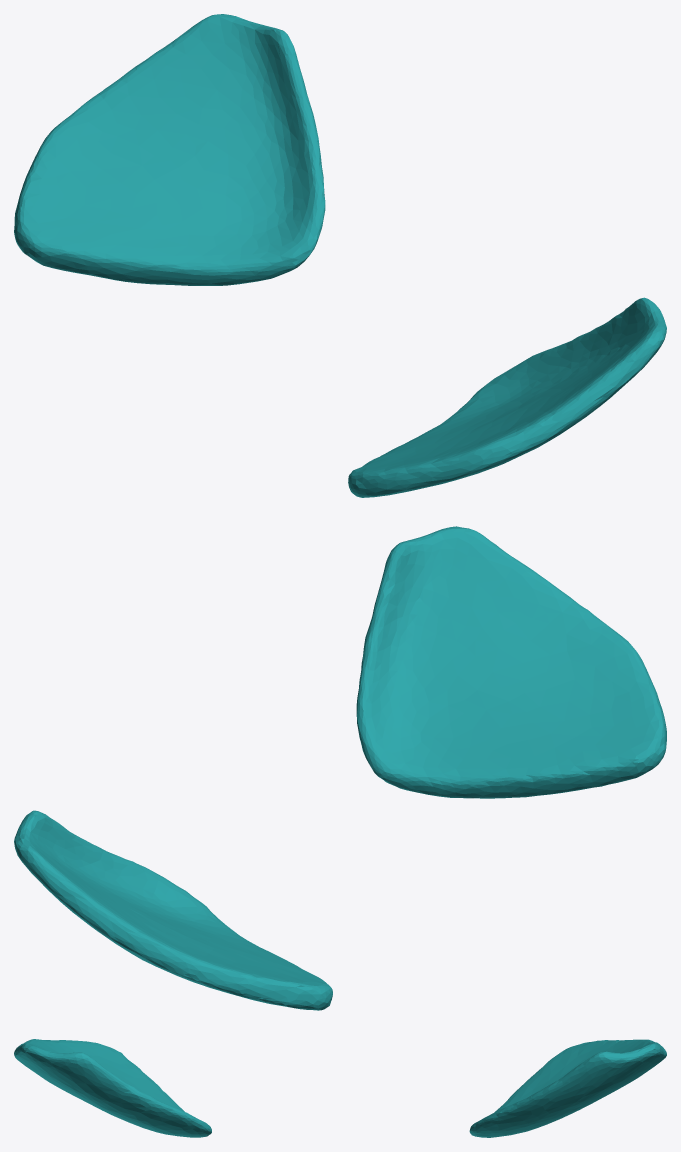
3 renders of one model, top to bottom at view 1: azimuth 30°, elevation 25°; view 2: azimuth 150°, elevation 25°; view 3: azimuth 270°, elevation 25°, orthographic. The views are drawn at different scales.
Parts seen in each view (by area): view 1: 821.obj; view 2: 821.obj; view 3: 821.obj.
Boxes of the visible parts, left/top/right/bottom form: 821.obj: left=14, top=14, right=666, bottom=497; 821.obj: left=14, top=526, right=666, bottom=1010; 821.obj: left=14, top=1039, right=666, bottom=1137.
Size of the model in its own units: 2542 by 1450 by 7063.
